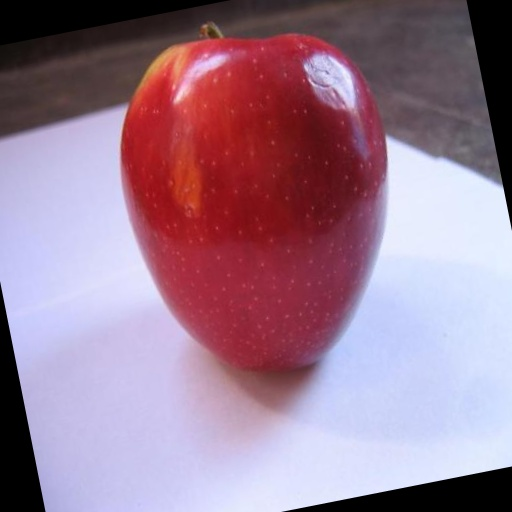fruit: (307, 58, 463, 297)
